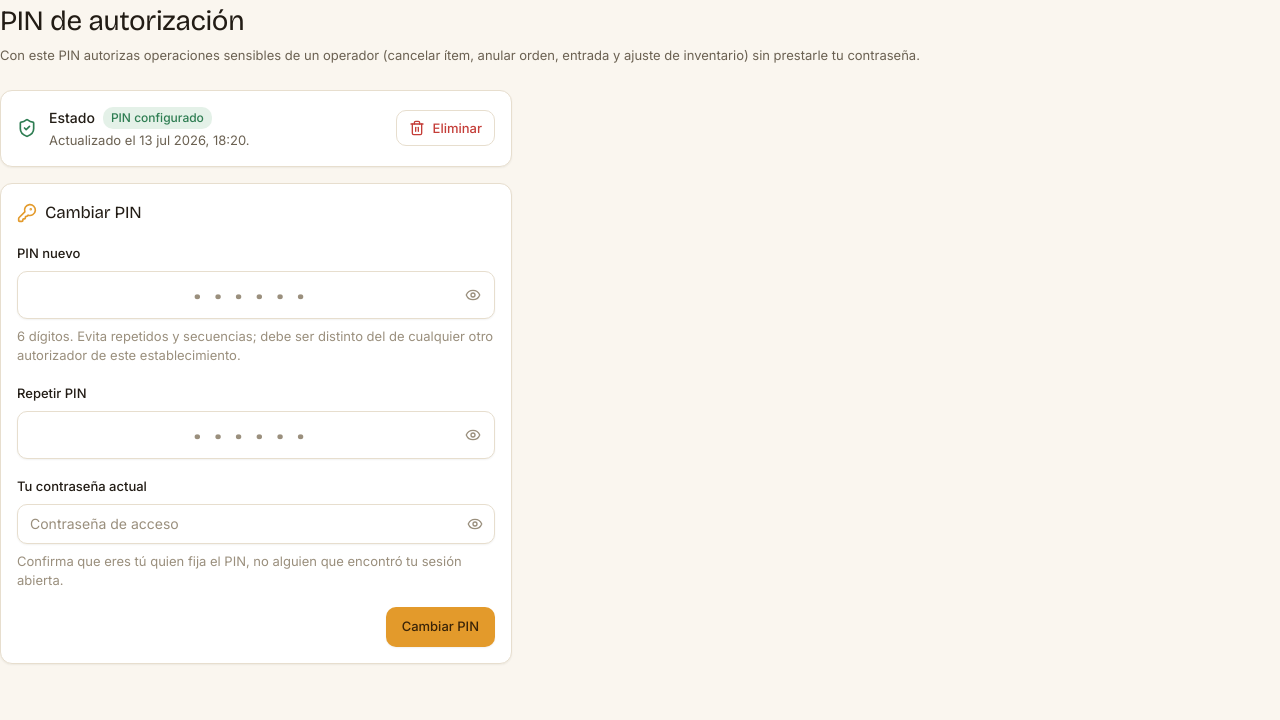
Test: MiPinPage › elimina el PIN solo tras confirmar
expect the text "PIN configurado" is shown: met, box [103,106,212,128]
Click the button "Eliminar": (445, 128) [396,110,495,146]
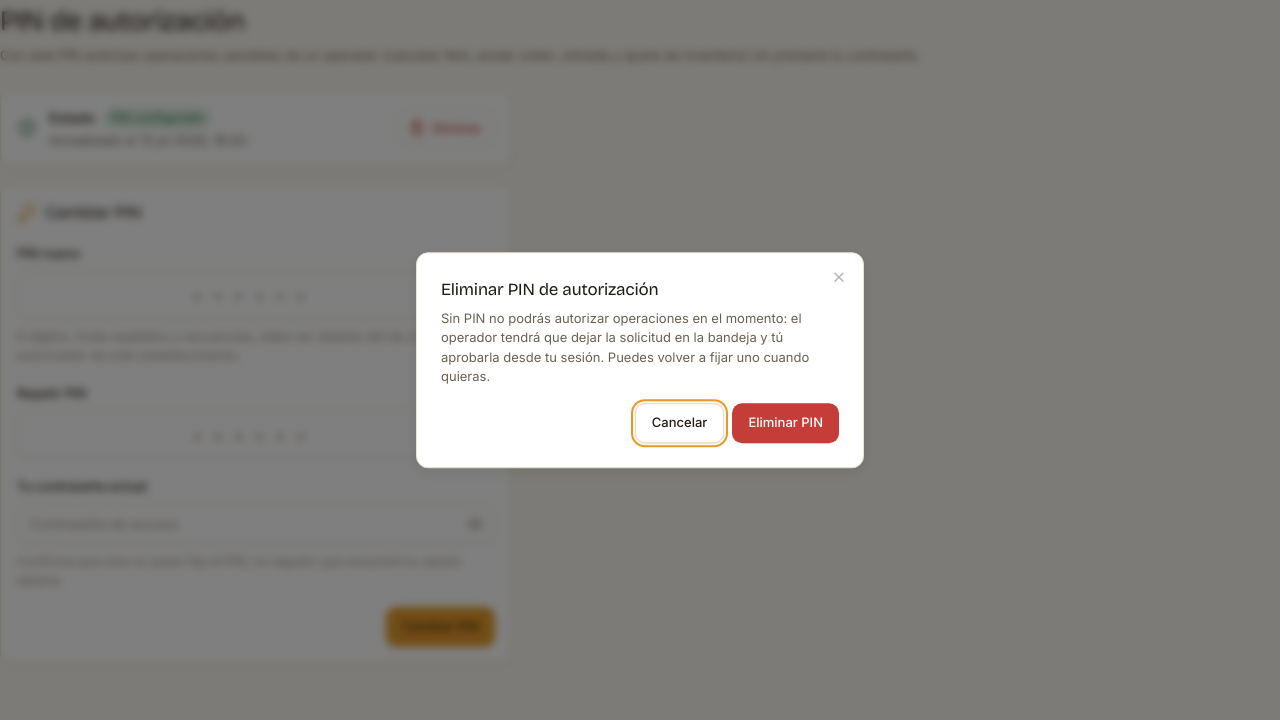
expect the heading "Eliminar PIN de autorización" is shown: met, box [441,279,658,300]
Click the button "Eliminar PIN": (786, 423) [732,403,839,443]
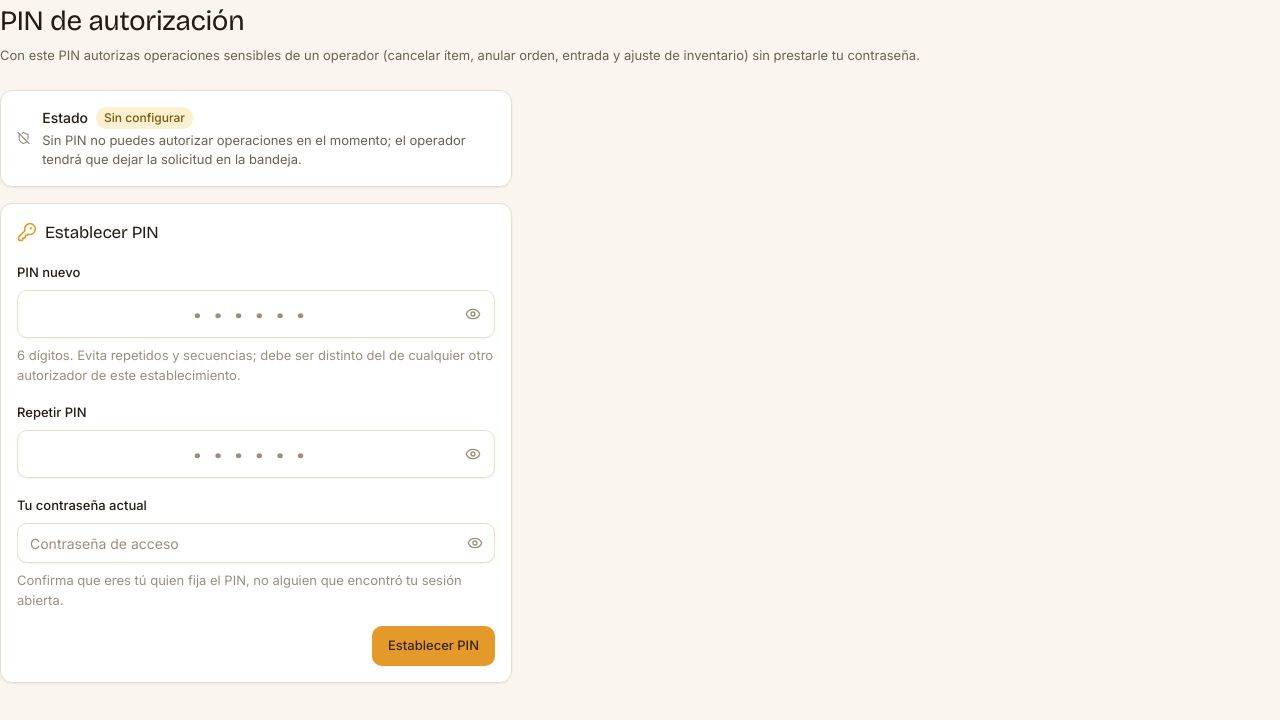
expect the text "Sin configurar" is shown: met, box [96,106,193,128]
